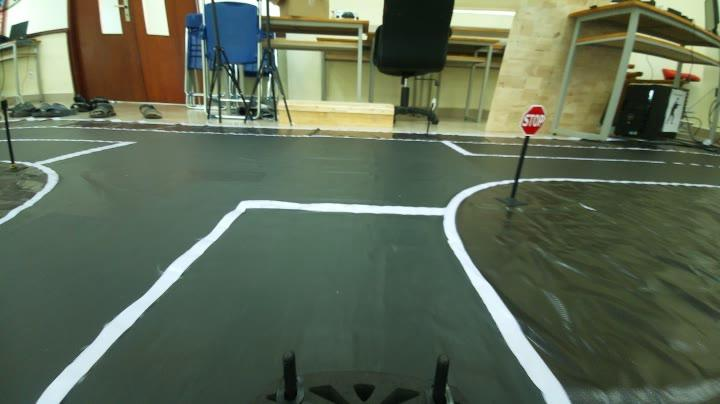stop: (514, 100, 552, 138)
